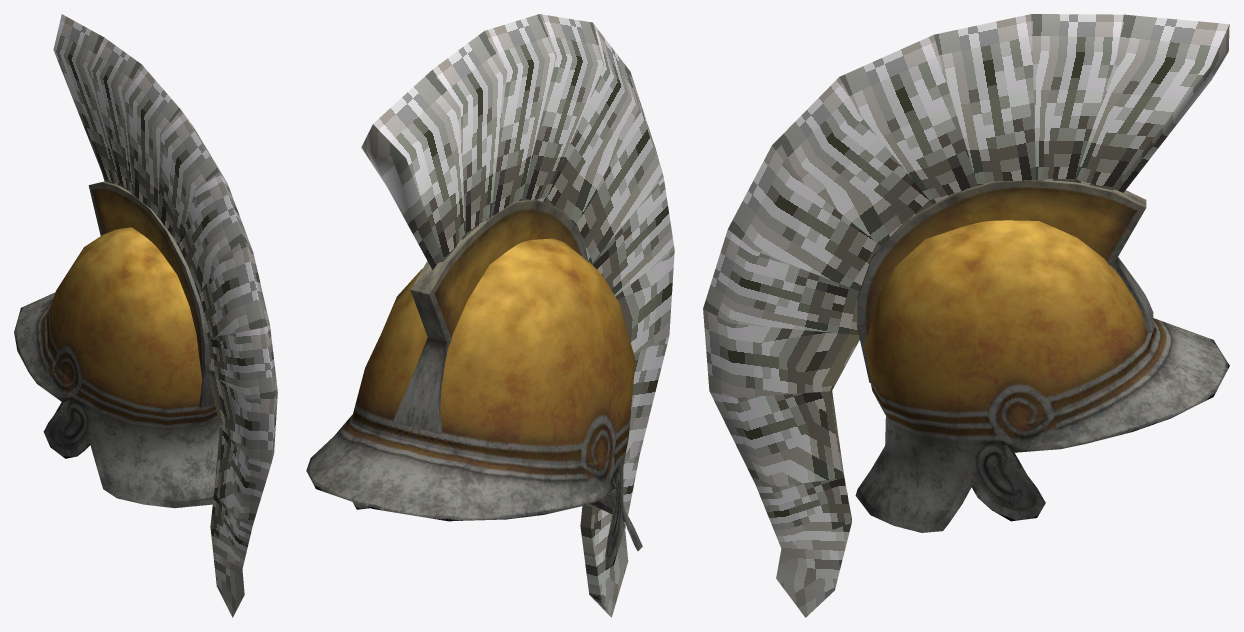
File: helm_hele_thracian_b3_crested.glb
3 renders of one model, left to right at view 1: azimuth 30°, elevation 25°; view 2: azimuth 150°, elevation 25°; view 3: azimuth 270°, elevation 25°, orthographic. The views are drawn at different scales.
Parts seen in each view (by area): view 1: helm_hele_thracian_b3_crested_part2, helm_hele_thracian_b3_crested_part0, helm_hele_thracian_b3_crested_part1; view 2: helm_hele_thracian_b3_crested_part2, helm_hele_thracian_b3_crested_part0, helm_hele_thracian_b3_crested_part1; view 3: helm_hele_thracian_b3_crested_part2, helm_hele_thracian_b3_crested_part0, helm_hele_thracian_b3_crested_part1.
Boxes of the visible parts, left/top/right/bottom form: helm_hele_thracian_b3_crested_part2: left=53, top=14, right=277, bottom=617; helm_hele_thracian_b3_crested_part0: left=14, top=227, right=219, bottom=508; helm_hele_thracian_b3_crested_part1: left=88, top=181, right=214, bottom=407; helm_hele_thracian_b3_crested_part2: left=361, top=14, right=674, bottom=617; helm_hele_thracian_b3_crested_part0: left=306, top=238, right=642, bottom=569; helm_hele_thracian_b3_crested_part1: left=393, top=199, right=588, bottom=433; helm_hele_thracian_b3_crested_part2: left=703, top=14, right=1229, bottom=617; helm_hele_thracian_b3_crested_part0: left=855, top=220, right=1229, bottom=532; helm_hele_thracian_b3_crested_part1: left=857, top=180, right=1153, bottom=382.
Bounding box in the file's own units: 0.5072 × 1.27 × 1.
Materials: 3 (3 with a texture image).
